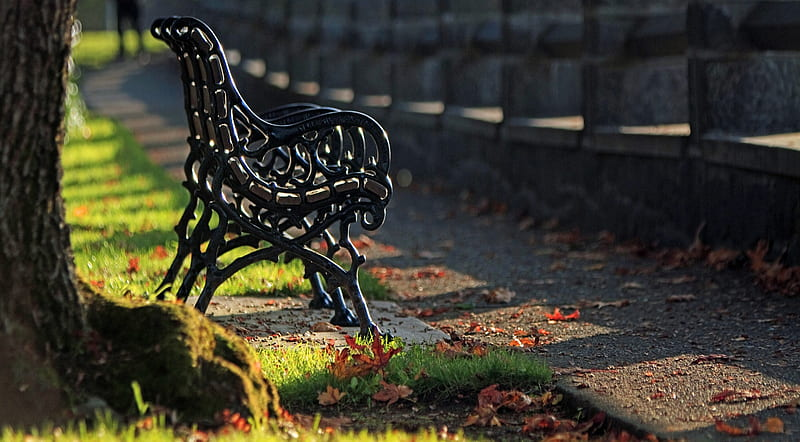Chair: (146, 16, 393, 351)
